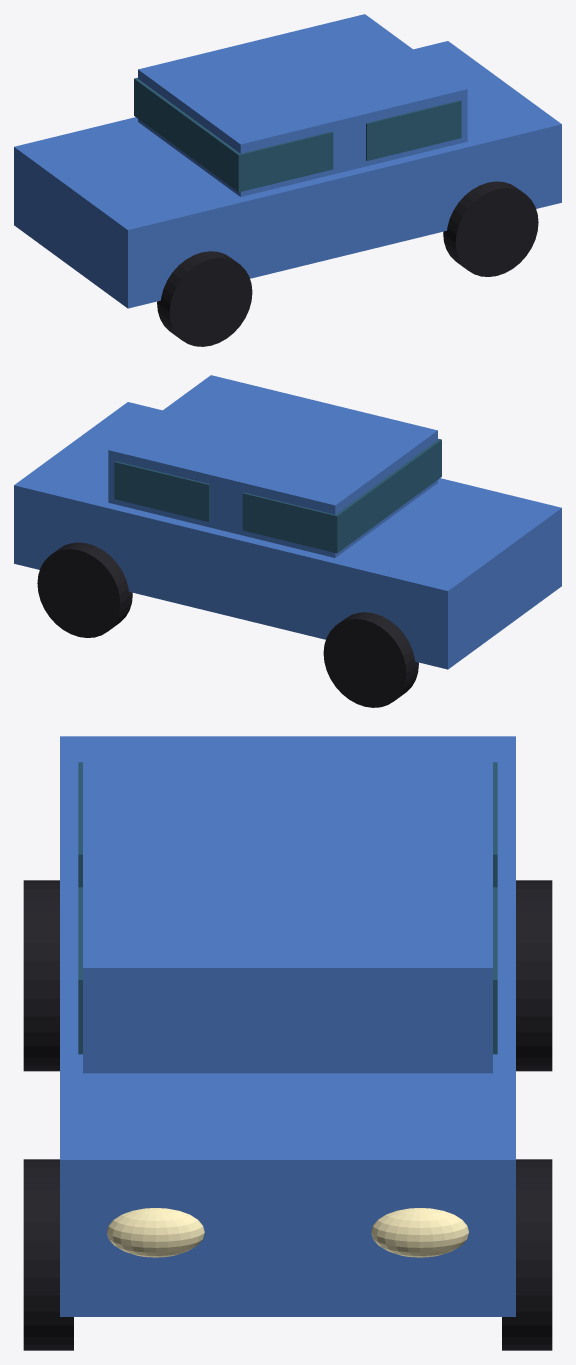
The model's file is car.glb.
3 views of the same model, one above another, from view 1: azimuth 30°, elevation 25°; view 2: azimuth 150°, elevation 25°; view 3: azimuth 270°, elevation 25° (orthographic). The views are drawn at different scales.
Parts seen in each view (by area): view 1: Car_Body, Car_Cabin, Car_Window, Car_Wheel_-1.45_-1.05, Car_Wheel_1.45_-1.05, Car_Window.001; view 2: Car_Body, Car_Cabin, Car_Window, Car_Wheel_-1.45_1.05, Car_Wheel_1.45_1.05, Car_Window.001; view 3: Car_Cabin, Car_Body, Car_Wheel_1.45_-1.05, Car_Wheel_1.45_1.05, Car_Wheel_-1.45_-1.05, Car_Wheel_-1.45_1.05, Car_Headlight, Car_Headlight.001, Car_Window.001, Car_Window.
Boxes of the visible parts, x1,y1,x2,y2 form: Car_Body: (14,41,561,308); Car_Cabin: (138,14,467,196); Car_Window: (134,77,333,192); Car_Wheel_-1.45_-1.05: (157,251,252,346); Car_Wheel_1.45_-1.05: (443,181,538,276); Car_Window.001: (366,100,461,160); Car_Body: (14,402,561,669); Car_Cabin: (108,375,437,557); Car_Window: (242,438,441,553); Car_Wheel_-1.45_1.05: (323,612,418,707); Car_Wheel_1.45_1.05: (37,542,132,637); Car_Window.001: (114,461,209,521); Car_Cabin: (83,746,492,1073); Car_Body: (60,736,515,1316); Car_Wheel_1.45_-1.05: (23,1159,73,1350); Car_Wheel_1.45_1.05: (502,1159,552,1350); Car_Wheel_-1.45_-1.05: (23,880,59,1071); Car_Wheel_-1.45_1.05: (516,880,552,1071); Car_Headlight: (107,1208,204,1257); Car_Headlight.001: (371,1208,468,1257); Car_Window.001: (78,887,497,1054); Car_Window: (78,762,497,887).
Bounding box in the file's own units: 4.5 × 1.74 × 2.32.
